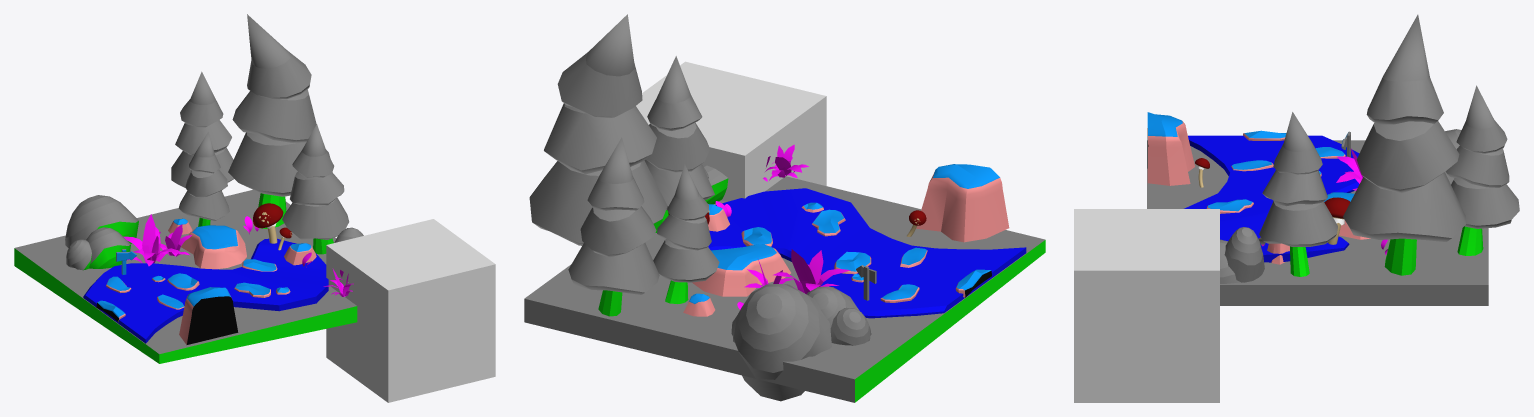
The model's file is CrowdKings_MockLvl.glb.
3 renders of one model, left to right at view 1: azimuth 30°, elevation 25°; view 2: azimuth 150°, elevation 25°; view 3: azimuth 270°, elevation 25°, orthographic. The views are drawn at different scales.
Parts seen in each view (by area): view 1: polySurface157, Cube; view 2: polySurface157, Cube; view 3: polySurface157, Cube.
Boxes of the visible parts, x1,y1,x2,y2 form: polySurface157: [14, 14, 363, 363]; Cube: [326, 219, 495, 402]; polySurface157: [524, 14, 1045, 402]; Cube: [636, 61, 826, 201]; polySurface157: [1147, 14, 1519, 305]; Cube: [1074, 209, 1219, 402].
Size of the model in its own units: 56.98 by 49.91 by 61.06.
